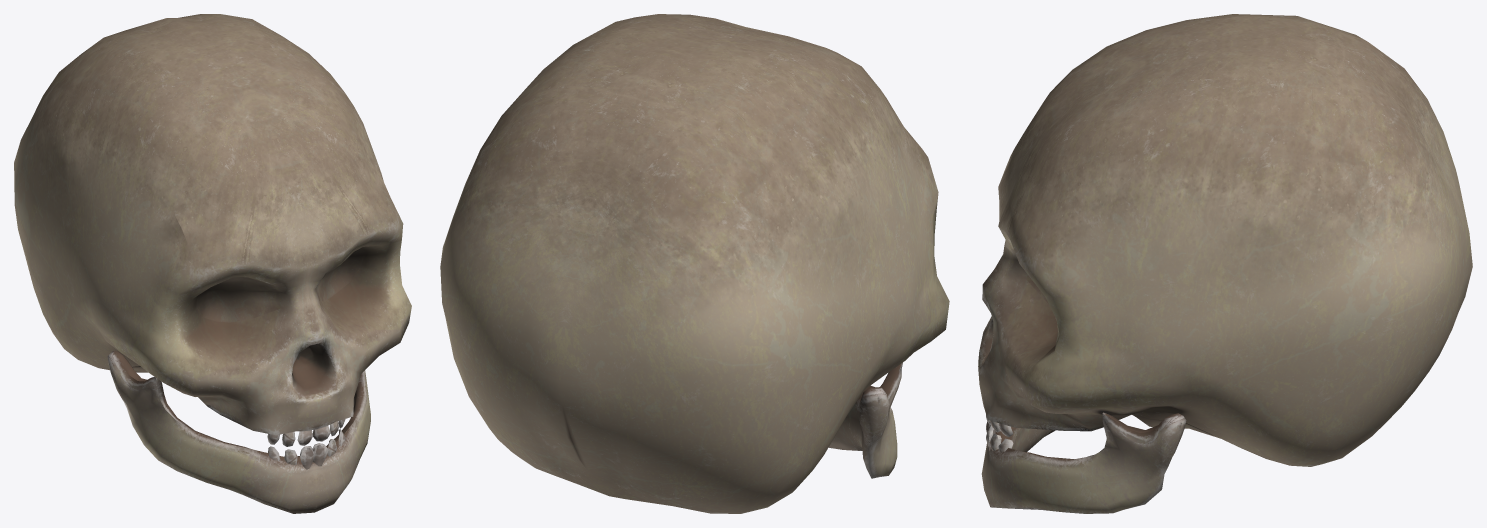
The model's file is craneo.fbx.
3 renders of one model, left to right at view 1: azimuth 30°, elevation 25°; view 2: azimuth 150°, elevation 25°; view 3: azimuth 270°, elevation 25°, orthographic. The views are drawn at different scales.
Visible parts, largest first — view 1: craneoA, mandibula.001; view 2: craneoA, mandibula.001; view 3: craneoA, mandibula.001.
Part boxes in pixels (left/top/right/bottom): craneoA: left=14, top=14, right=411, bottom=446; mandibula.001: left=107, top=350, right=370, bottom=513; craneoA: left=440, top=14, right=949, bottom=513; mandibula.001: left=828, top=362, right=902, bottom=478; craneoA: left=978, top=14, right=1472, bottom=466; mandibula.001: left=981, top=412, right=1186, bottom=513.
Size of the model in its own units: 0.1629 by 0.2178 by 0.2115.
1 material, 1 textured.
